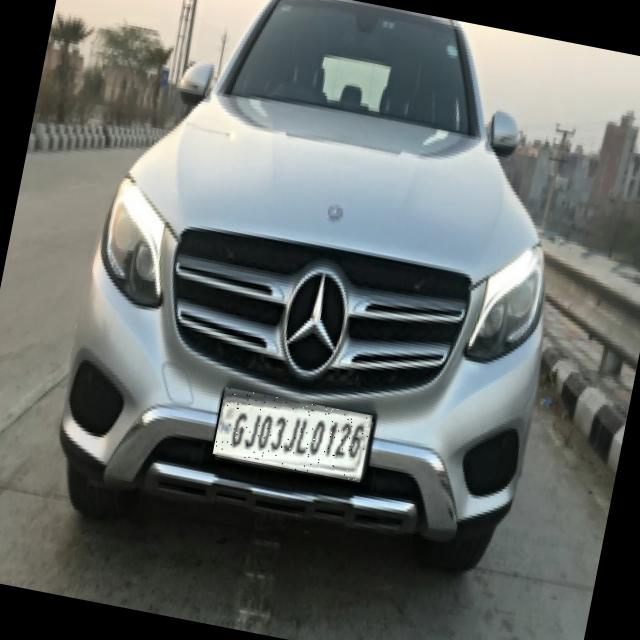Plate: (214, 389, 374, 484)
